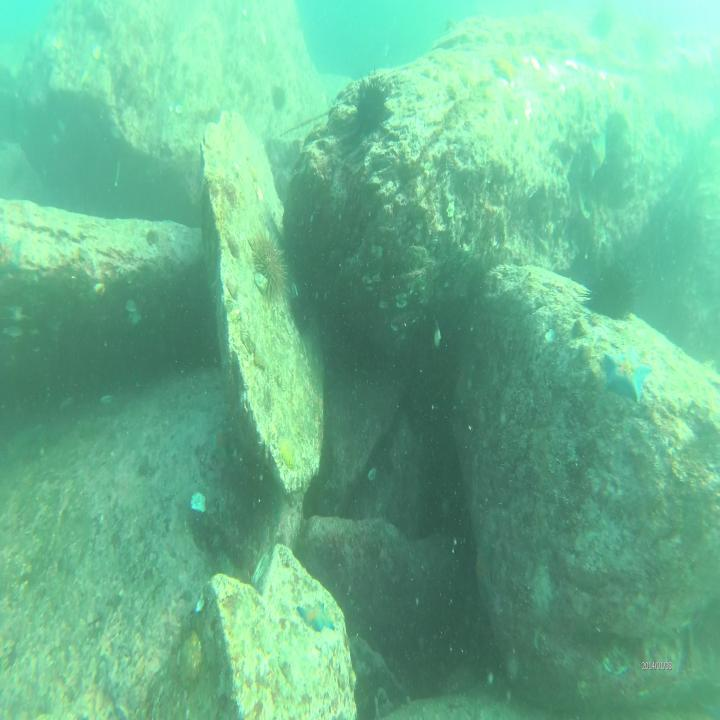echinus: (587, 260, 635, 320), (249, 234, 286, 303), (354, 75, 389, 132), (271, 82, 288, 114)
starfish: (603, 349, 650, 404), (296, 596, 335, 636)
